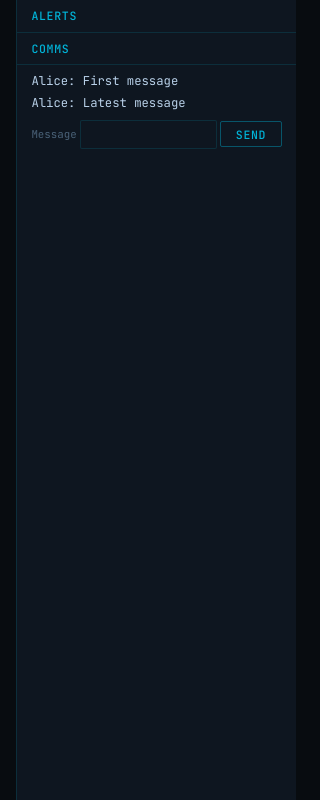
Test: Comms › summary shows last message sender and text when collapsed
What coordinates should you click on to do the following:
click the heading "Comms"
I would click on:
 (50, 48)
Its box is 17,33 -> 296,65.
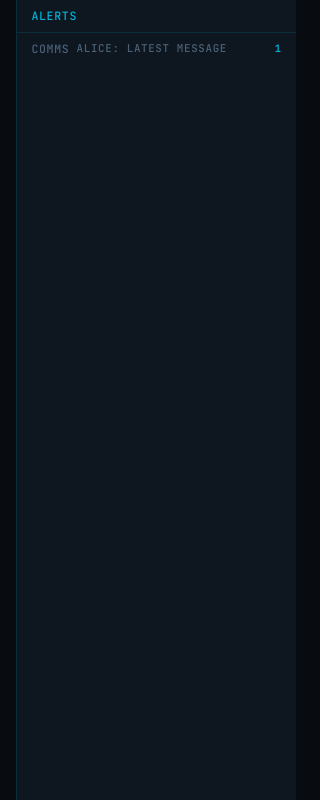
Expected: the heading "Comms Alice: Latest message 1" is shown, 31,41 -> 282,56
